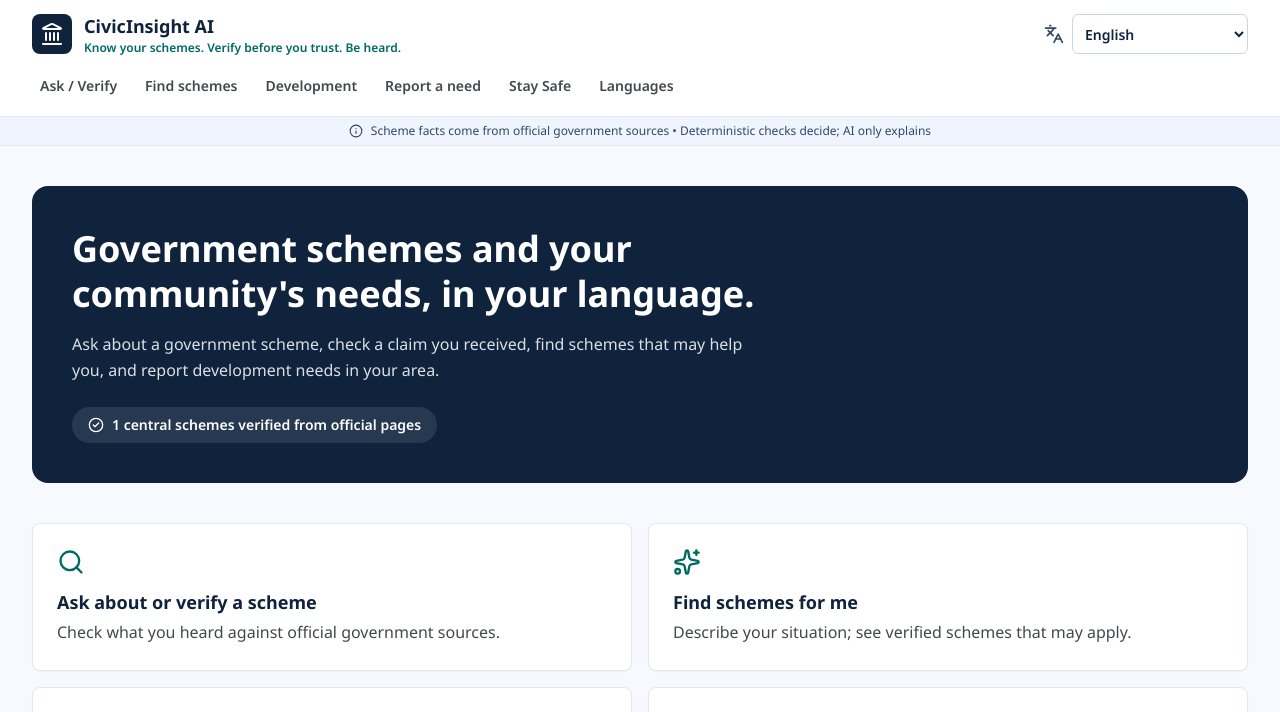
Test: platform › switches to Hindi UI, sets RTL for Urdu and shows the English-fallback notice
Select "हिन्दी · Hindi" in the dropdown named "language" at (1160, 34), box [1072,14,1248,54]
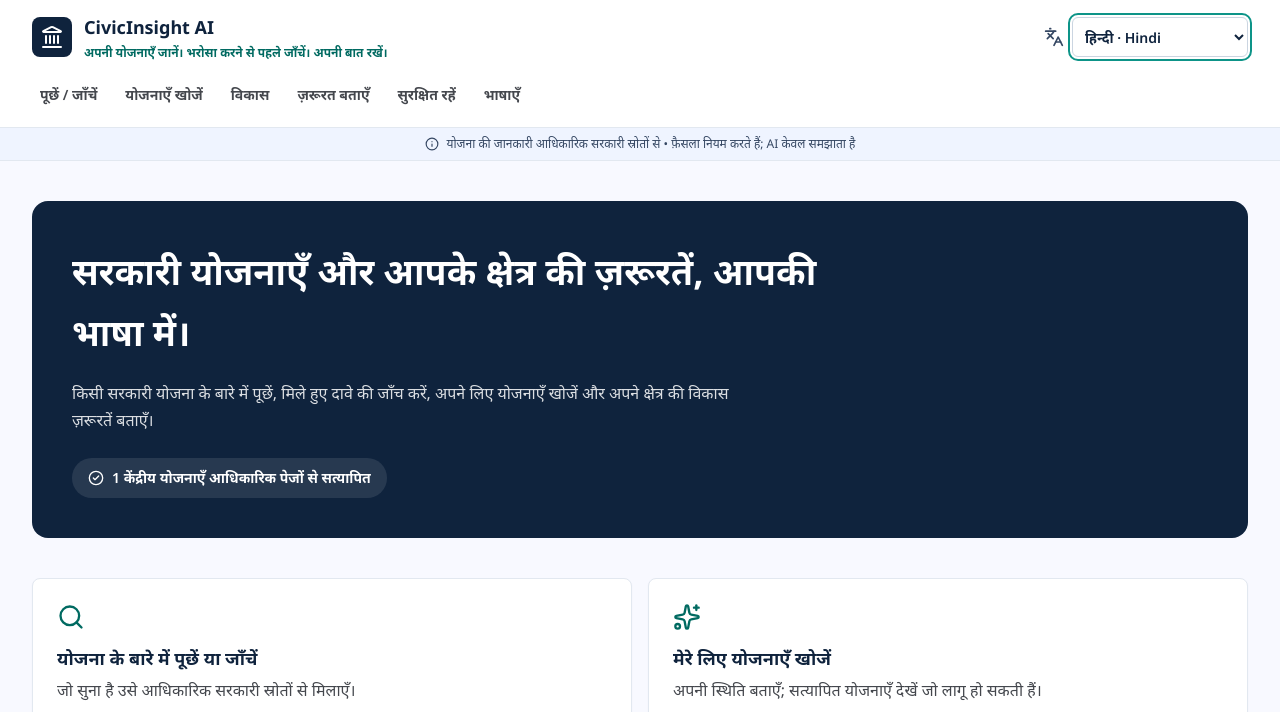
Check: the link "योजनाएँ खोजें" is shown, box [125,85,203,104]
Select "اردو · Urdu" in the dropdown named "language" at (1160, 38), box [1072,18,1248,58]
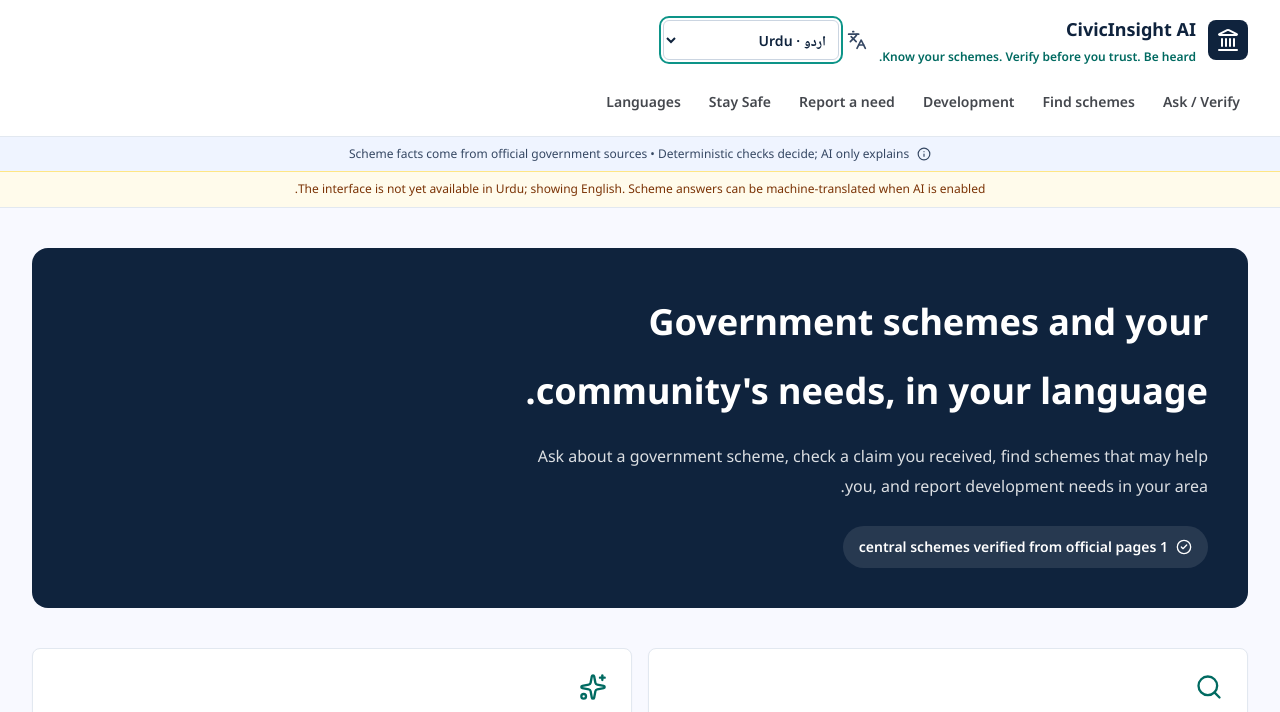
Check: the text "not yet available in Urdu" is shown, box [295,180,985,197]
